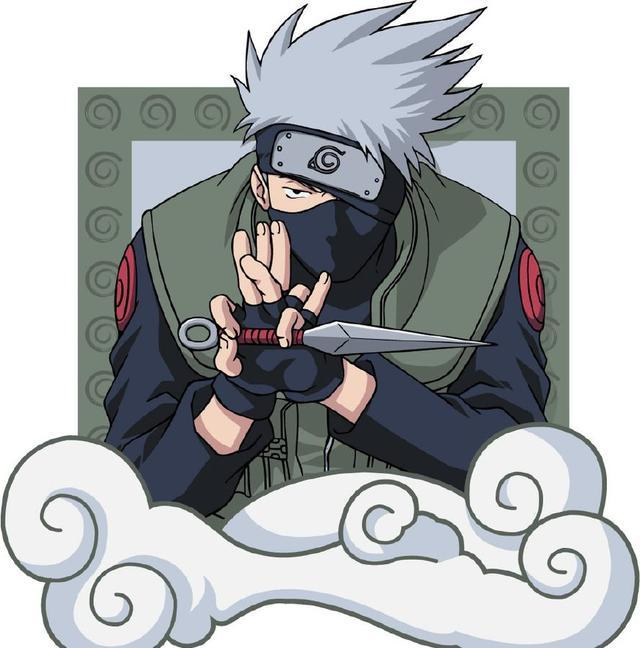kakashi: (248, 123, 413, 284)
